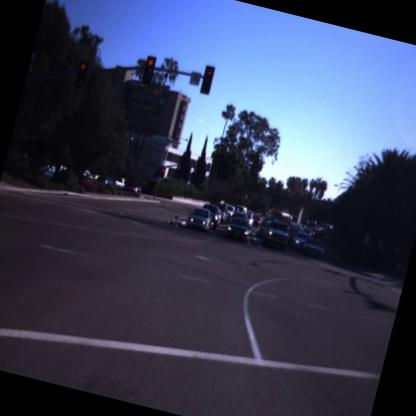trafficlight: (135, 49, 160, 93), (70, 51, 93, 91), (198, 63, 217, 99)
